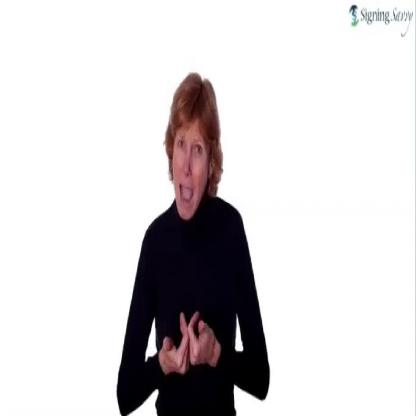HowAreYou: (156, 287, 220, 394)
